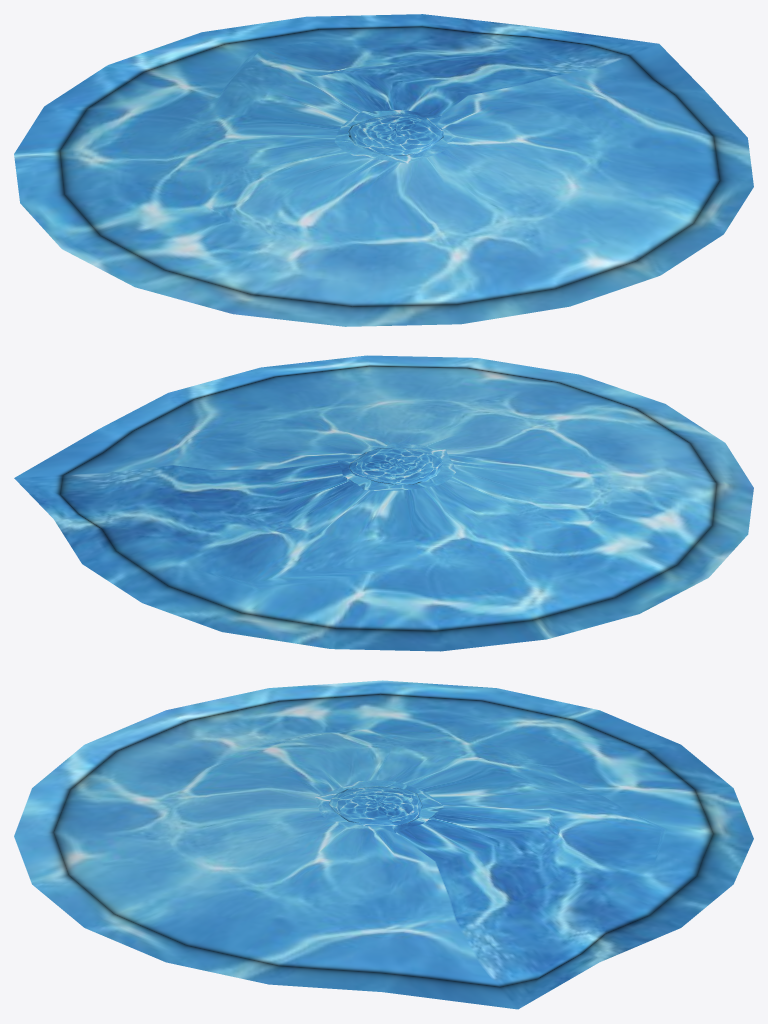
Rendered from polka_drop_2.obj.
3 views of the same model, one above another, from view 1: azimuth 30°, elevation 25°; view 2: azimuth 150°, elevation 25°; view 3: azimuth 270°, elevation 25° (orthographic). The views are drawn at different scales.
Bounding box in the file's own units: 10.16 × 0.6728 × 9.87.
1 material, 1 textured.
